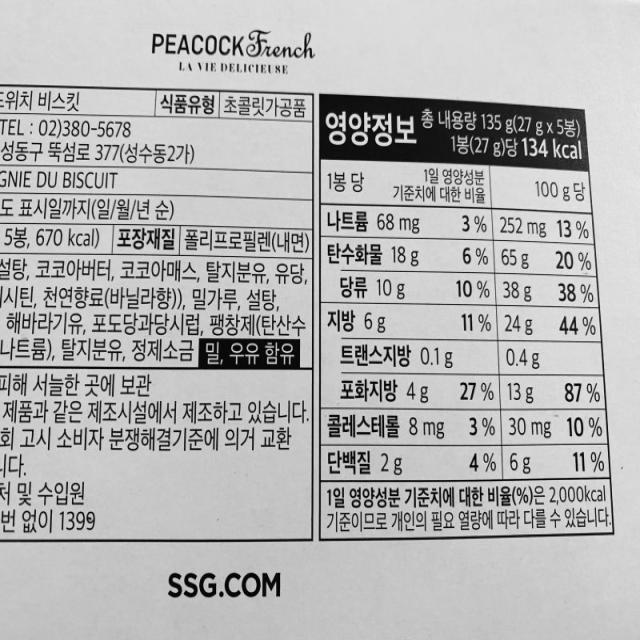Nutrition Label: (313, 81, 622, 547)
